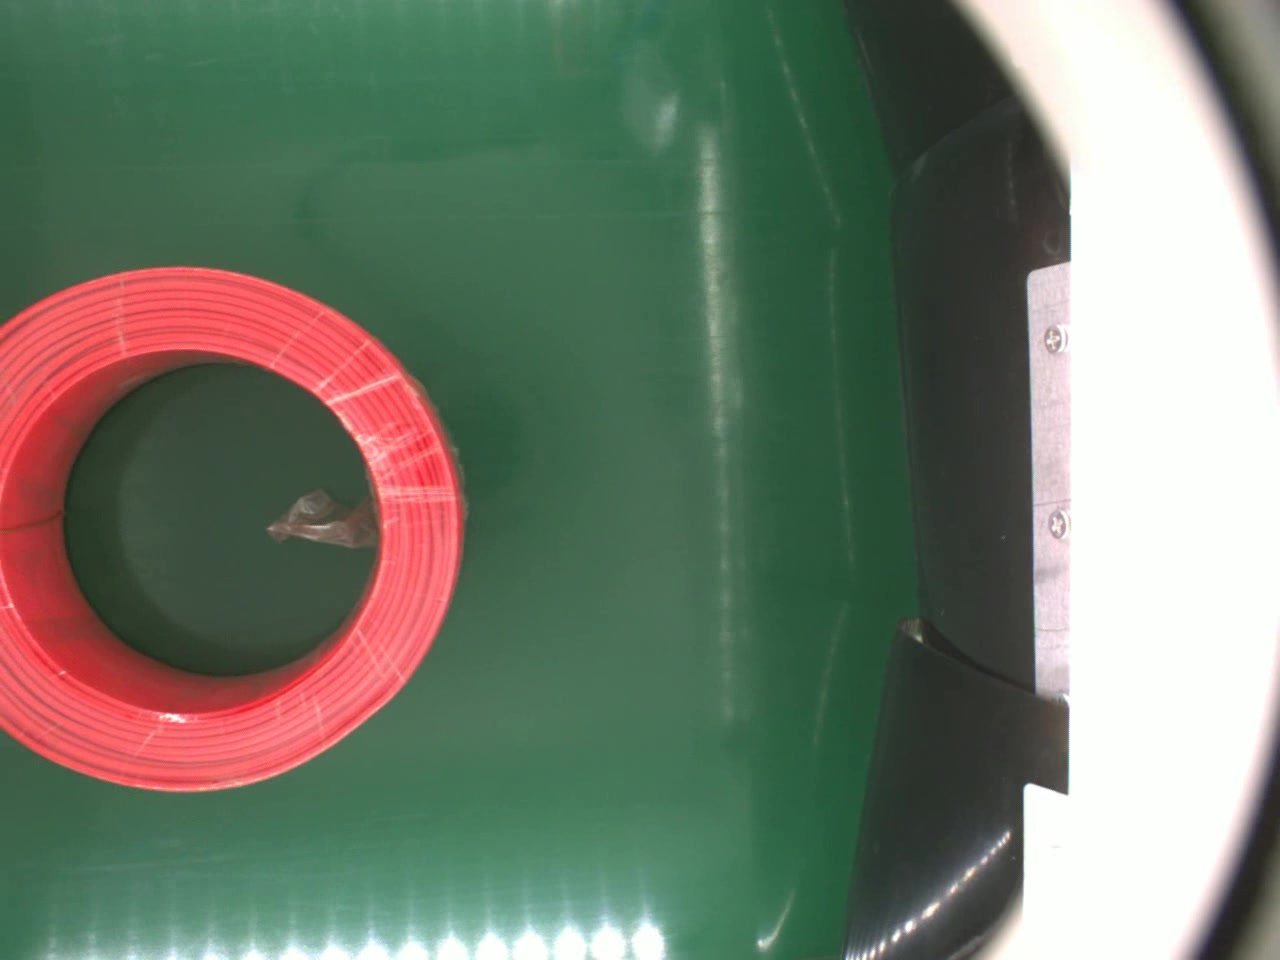red: (0, 257, 475, 794)
